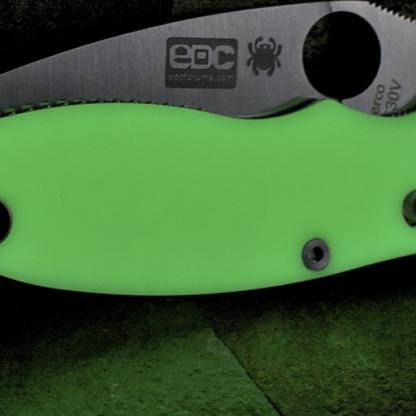knife: (0, 0, 415, 305)
